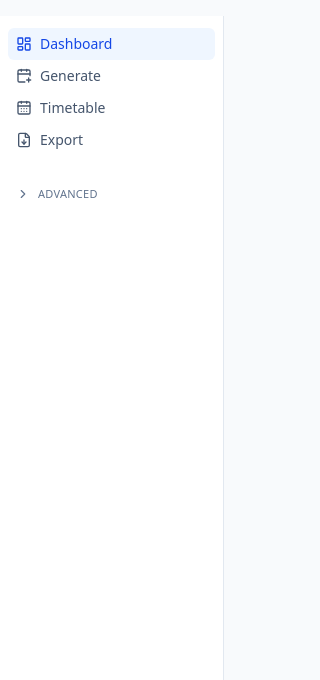
Test: the rail › expands and collapses Advanced, with Validation first inside it
Click the button "Advanced". click: point(112, 194)
box: [8,176,215,212]
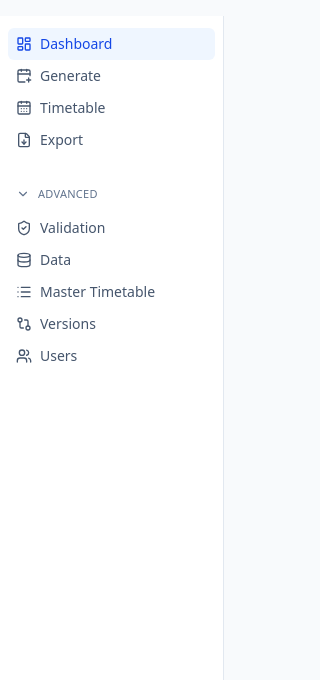
Expected: the button "Advanced" is expanded
Expected: the links read "Validation", "Data", "Master Timetable", "Versions", "Users", in this order, [16,218,106,237]; [16,250,71,269]; [16,282,155,301]; [16,314,96,333]; [16,346,77,365]
Click the button "Advanced". click: point(112, 194)
box: [8,176,215,212]
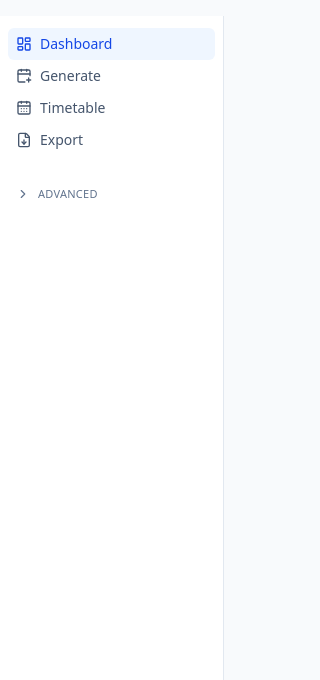
Expected: the list with id "rail-advanced" is gone
